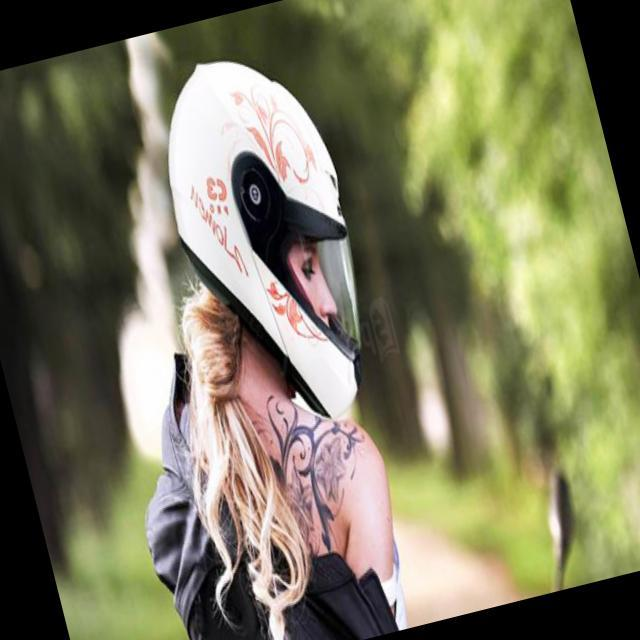Helm: (124, 31, 401, 453)
